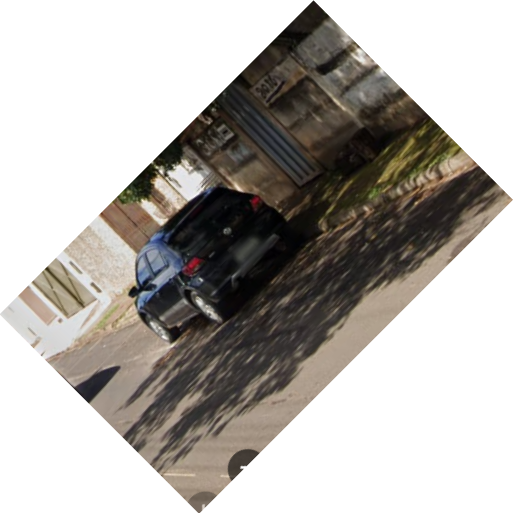car: (125, 182, 294, 346)
